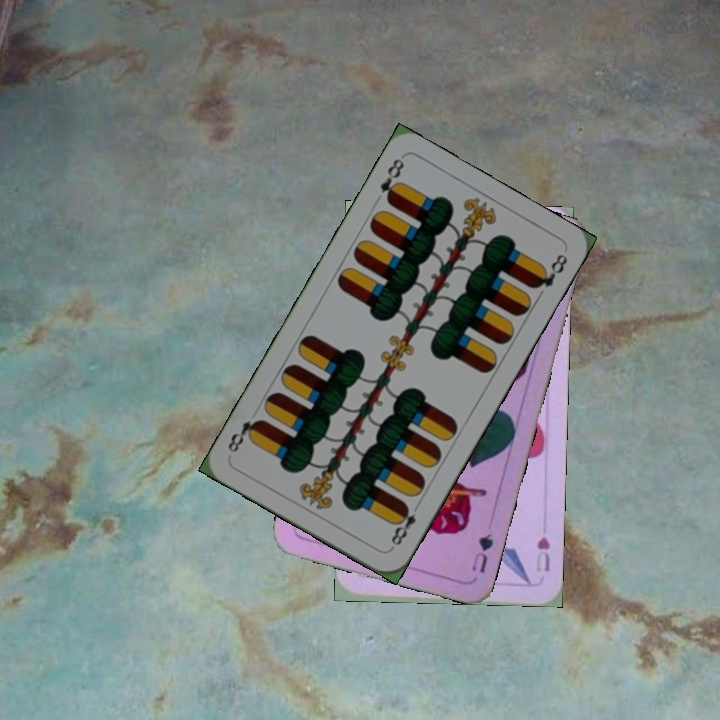E8: (386, 500, 423, 552), (376, 154, 407, 206)
GU: (467, 528, 496, 576)
HU: (532, 533, 553, 574)
